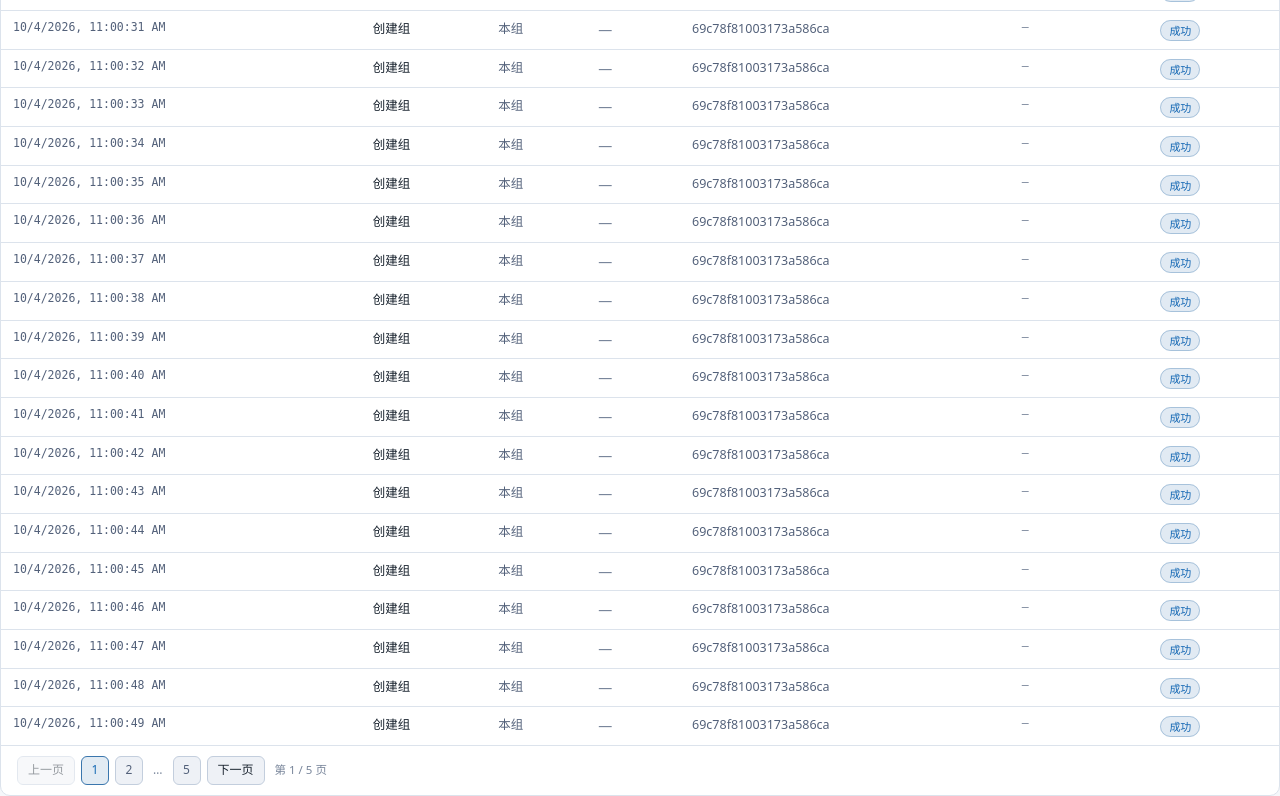
Test: GroupAuditPanel 页码翻页 › 点页码跳到那一页，并把 page 交给服务端
(page scrolled)
Click the button with test id "audit-page-2".
click(129, 770)  # box top-left (115, 756), bottom-right (143, 785)
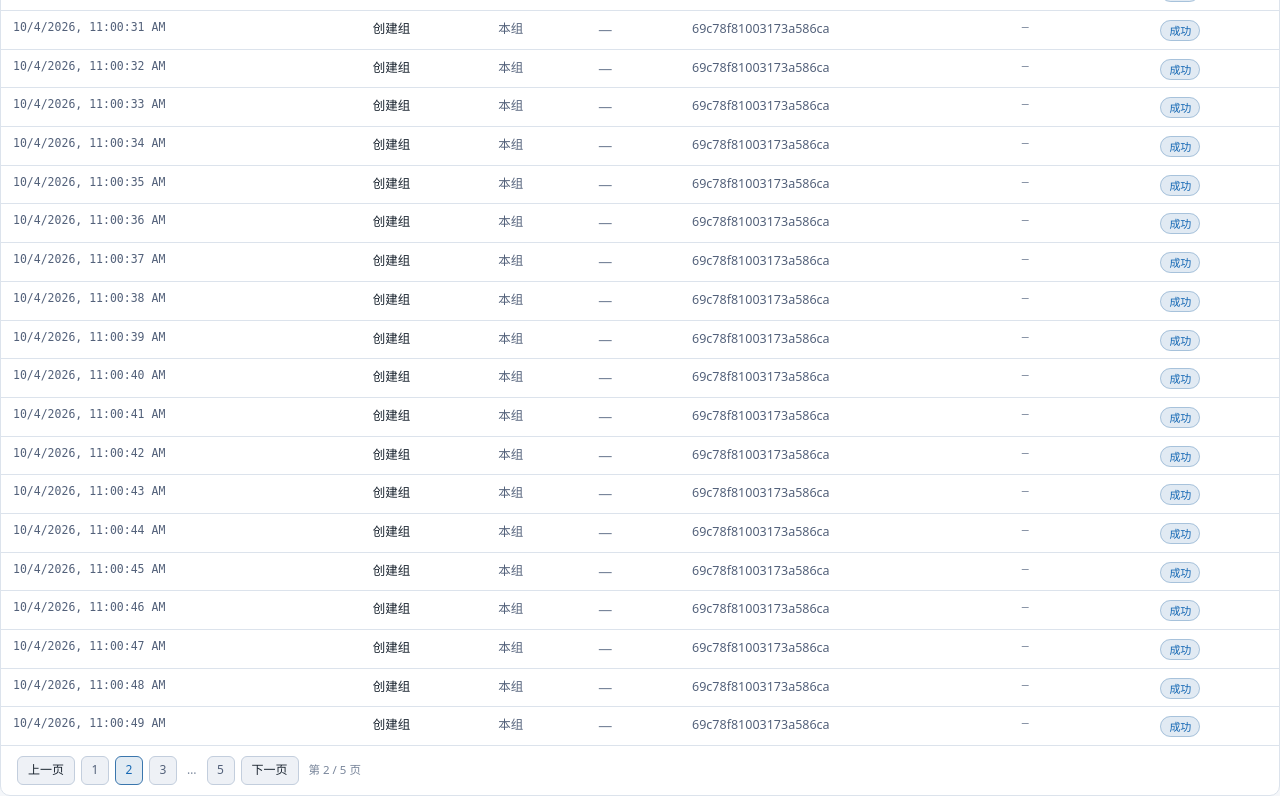
Expected: the text with test id "audit-page-summary" reads "第 2 / 5 页", top-left (308, 762), bottom-right (361, 778)
